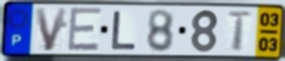8: (190, 8, 220, 54), (145, 8, 175, 54)
E: (66, 6, 104, 54)
L: (109, 10, 139, 51)
T: (225, 10, 255, 53)
V: (33, 6, 70, 53)
